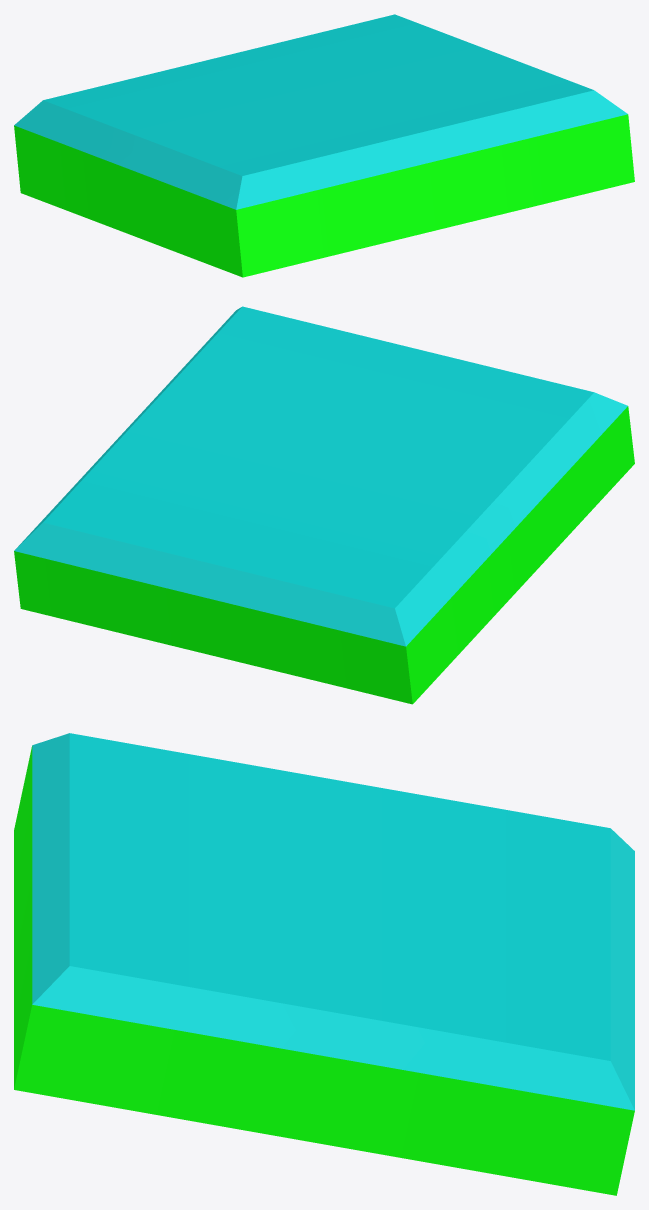
Rendered from ButtonA.glb.
3 views of the same model, one above another, from view 1: azimuth 30°, elevation 25°; view 2: azimuth 150°, elevation 25°; view 3: azimuth 270°, elevation 25° (orthographic). The views are drawn at different scales.
Visible parts, largest first — view 1: ButtonA; view 2: ButtonA; view 3: ButtonA.
Boxes of the visible parts, box(x1,y1,x2,y2) form: ButtonA: box(14, 14, 634, 277); ButtonA: box(14, 306, 634, 704); ButtonA: box(14, 733, 634, 1195).
Size of what is drawn, in the model's own units: 0.5336 by 0.2077 by 0.5397.
Materials: 1 (1 with a texture image).
